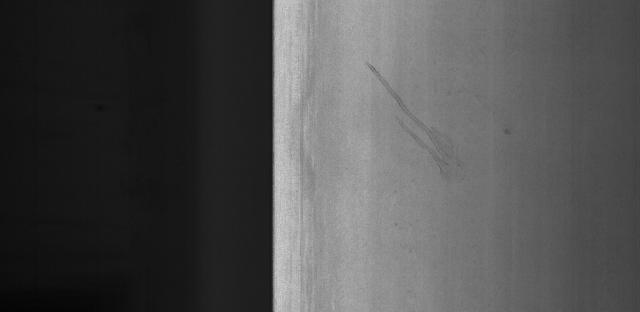water_spot: (357, 56, 520, 194)
